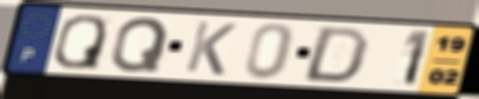0: (241, 21, 297, 82)
1: (401, 29, 433, 90)
D: (298, 25, 373, 85)
K: (182, 19, 240, 77)
Q: (107, 15, 172, 74), (51, 13, 109, 72)
